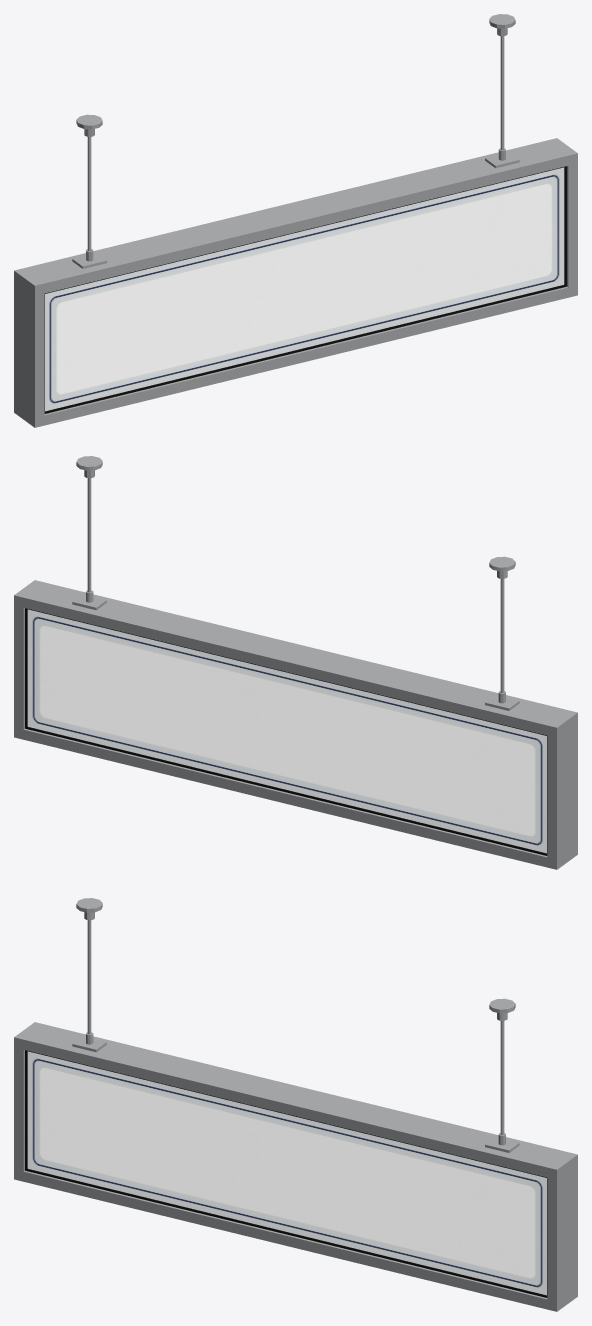
File: gteki_sign_hanging_white_none.glb
3 renders of one model, top to bottom at view 1: azimuth 30°, elevation 25°; view 2: azimuth 150°, elevation 25°; view 3: azimuth 330°, elevation 25°, orthographic.
Parts seen in each view (by area): view 1: VIS_body; view 2: VIS_body; view 3: VIS_body.
Part boxes in pixels (x1=…): VIS_body: x1=14, y1=14, x2=577, y2=427; VIS_body: x1=14, y1=456, x2=577, y2=869; VIS_body: x1=14, y1=898, x2=577, y2=1311.
Size of the model in its own units: 1.8 by 0.9 by 0.12.
2 materials, 2 textured.
